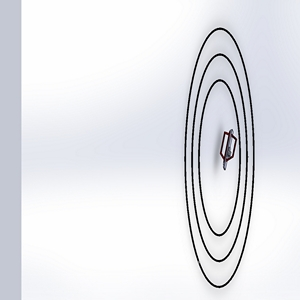circle: (170, 21, 276, 292)
submarine: (216, 126, 238, 176)
